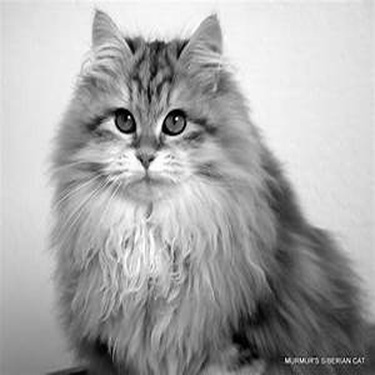cat: (51, 5, 370, 368)
